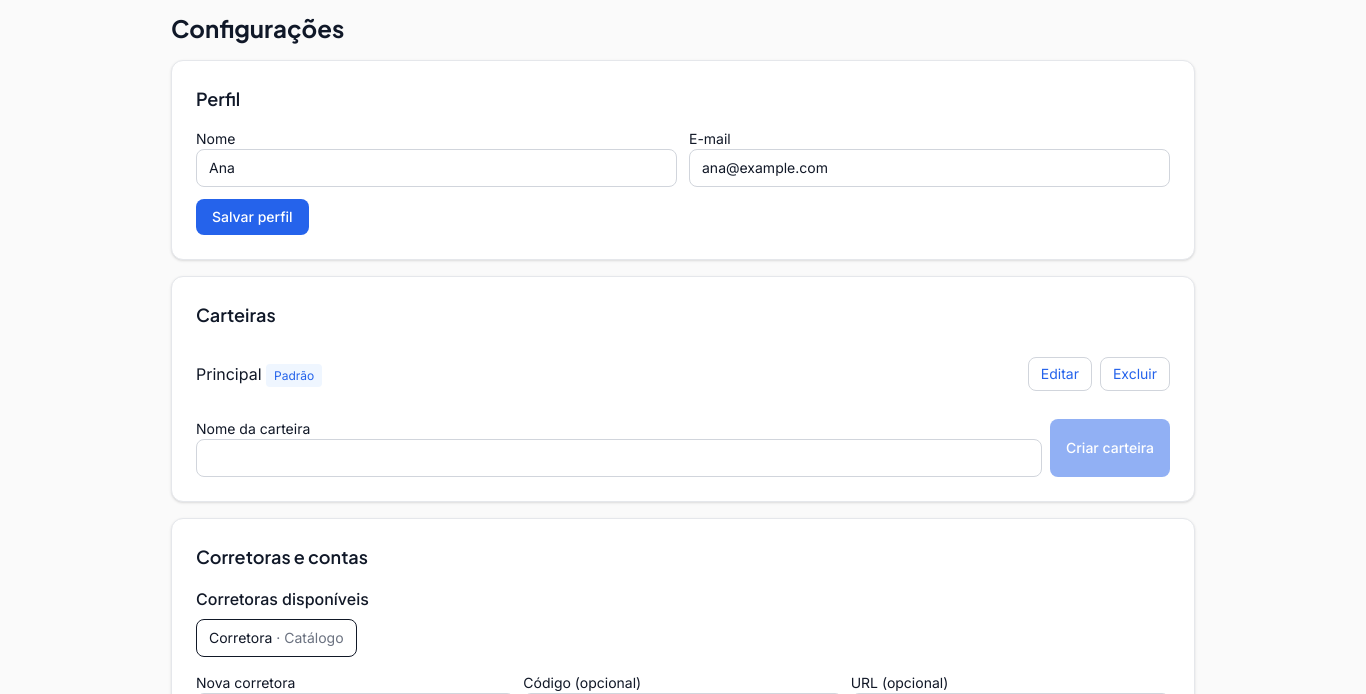
Test: settings › renders server status and updates profile with persisted server response
This screenshot has width=1366, height=694.
Replace the text in the field labelled "Nome" with "Ana Maria": (436, 168) [196, 149, 677, 187]
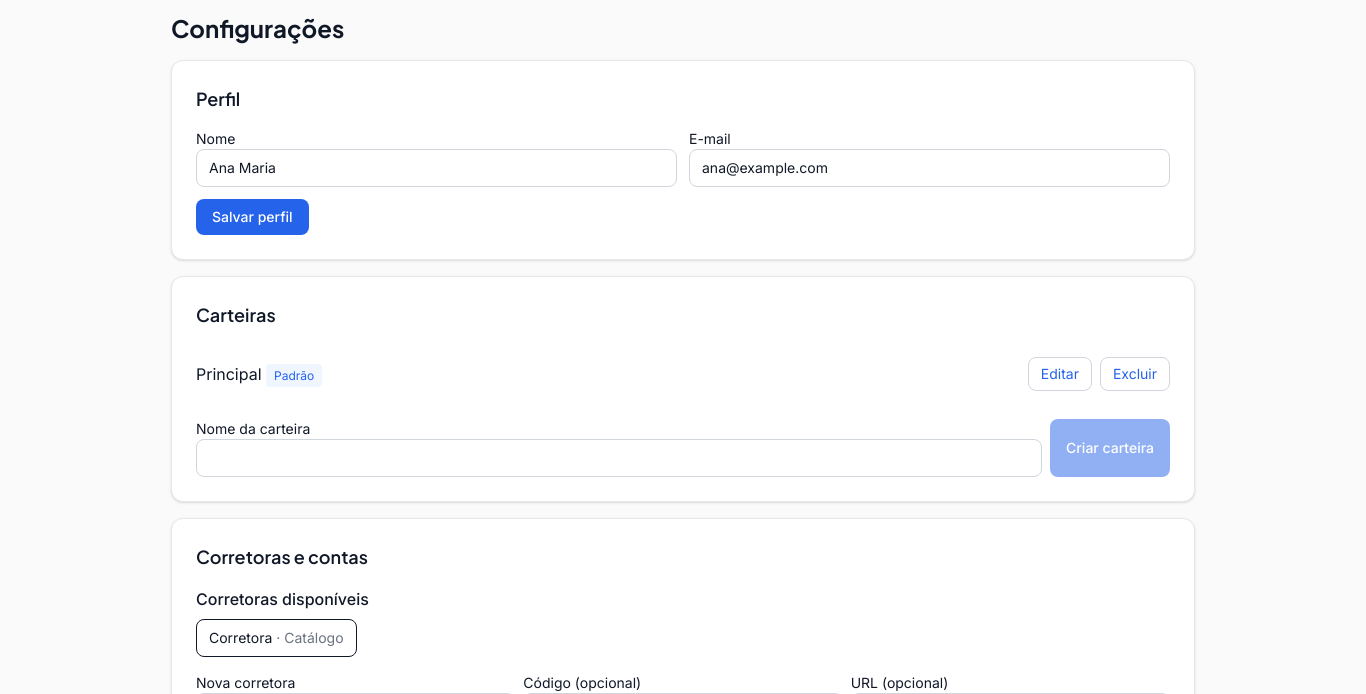
Click the button "Salvar perfil": (252, 217) [196, 199, 309, 235]
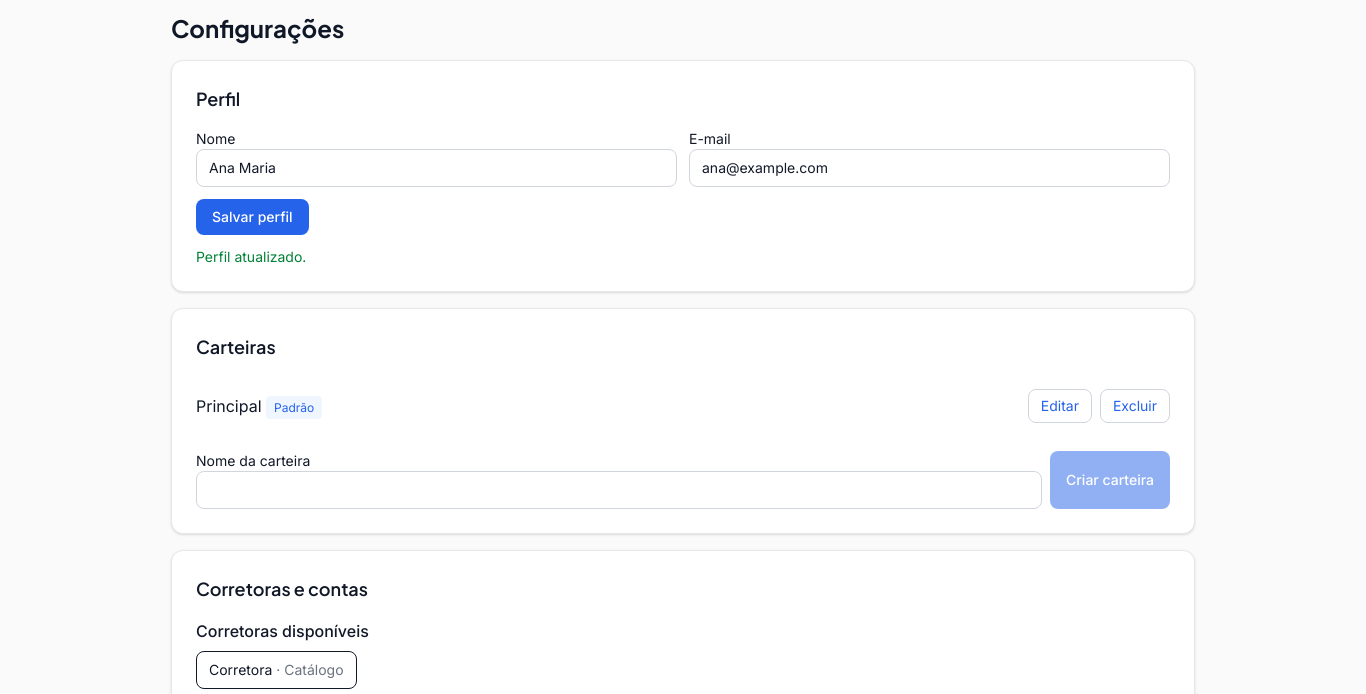
Result: the text "Perfil atualizado." is shown at [196, 248, 306, 265]
